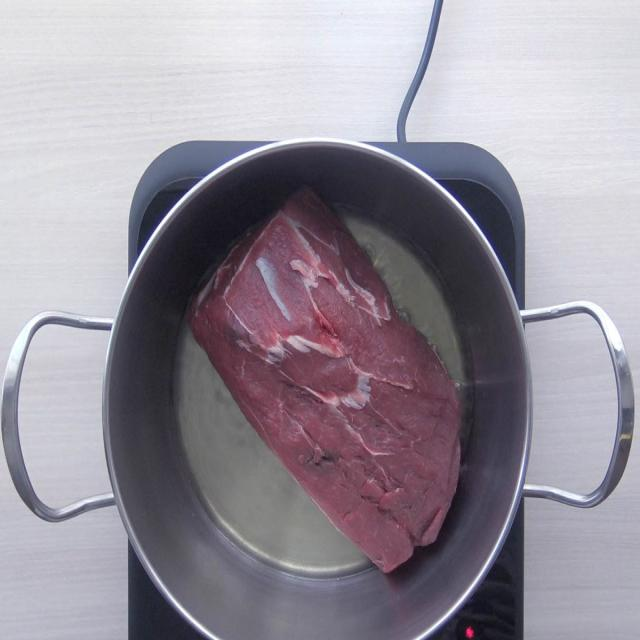carne de res: (170, 178, 488, 584)
